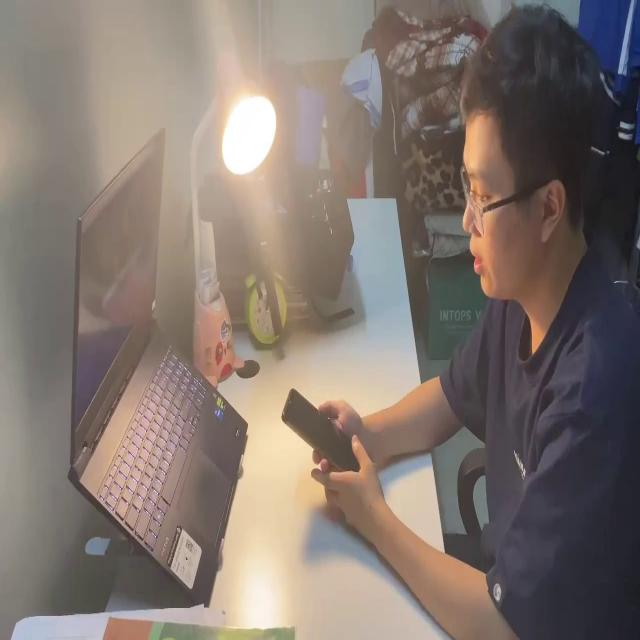book: (6, 597, 294, 640)
laptop: (62, 117, 244, 600)
phone: (277, 386, 359, 484)
student: (309, 0, 640, 640)
